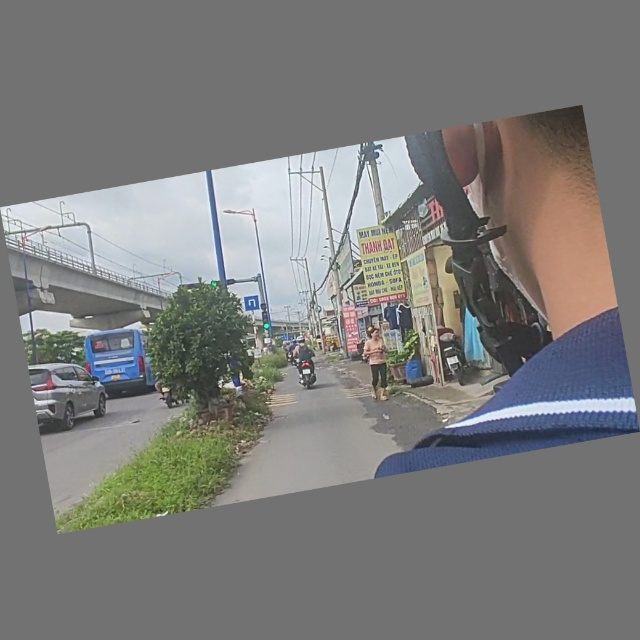I.409: (243, 294, 262, 315)
